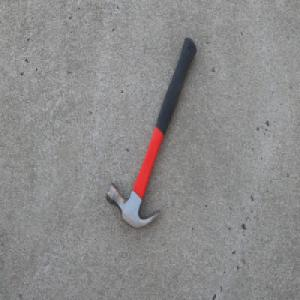Hammer: (104, 36, 197, 231)
